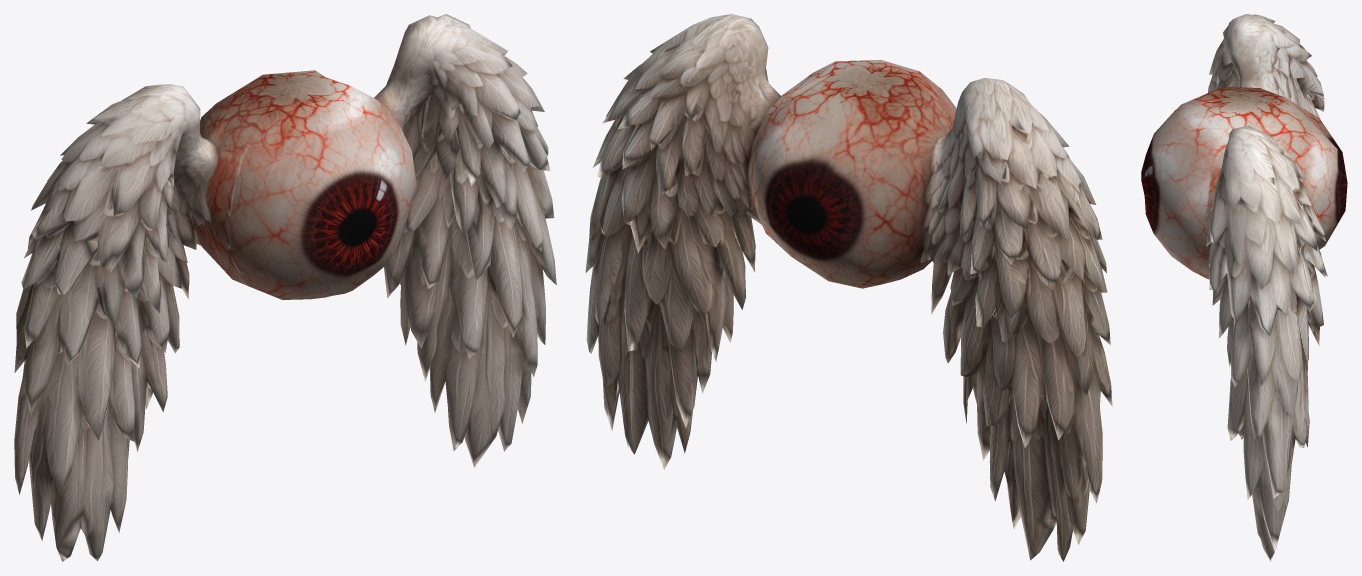
File: VAR_Angel_WingedEye.fbx
3 views of the same model, side by side, from view 1: azimuth 30°, elevation 25°; view 2: azimuth 150°, elevation 25°; view 3: azimuth 270°, elevation 25° (orthographic). The views are drawn at different scales.
Visible parts, largest first — view 1: texture_mapping; view 2: texture_mapping; view 3: texture_mapping.
Boxes of the visible parts, left/top/right/bottom form: texture_mapping: left=14, top=14, right=556, bottom=561; texture_mapping: left=585, top=14, right=1112, bottom=561; texture_mapping: left=1141, top=14, right=1347, bottom=561.
Size of the model in its own units: 1 by 0.3939 by 0.8555.
Materials: 1 (1 with a texture image).
